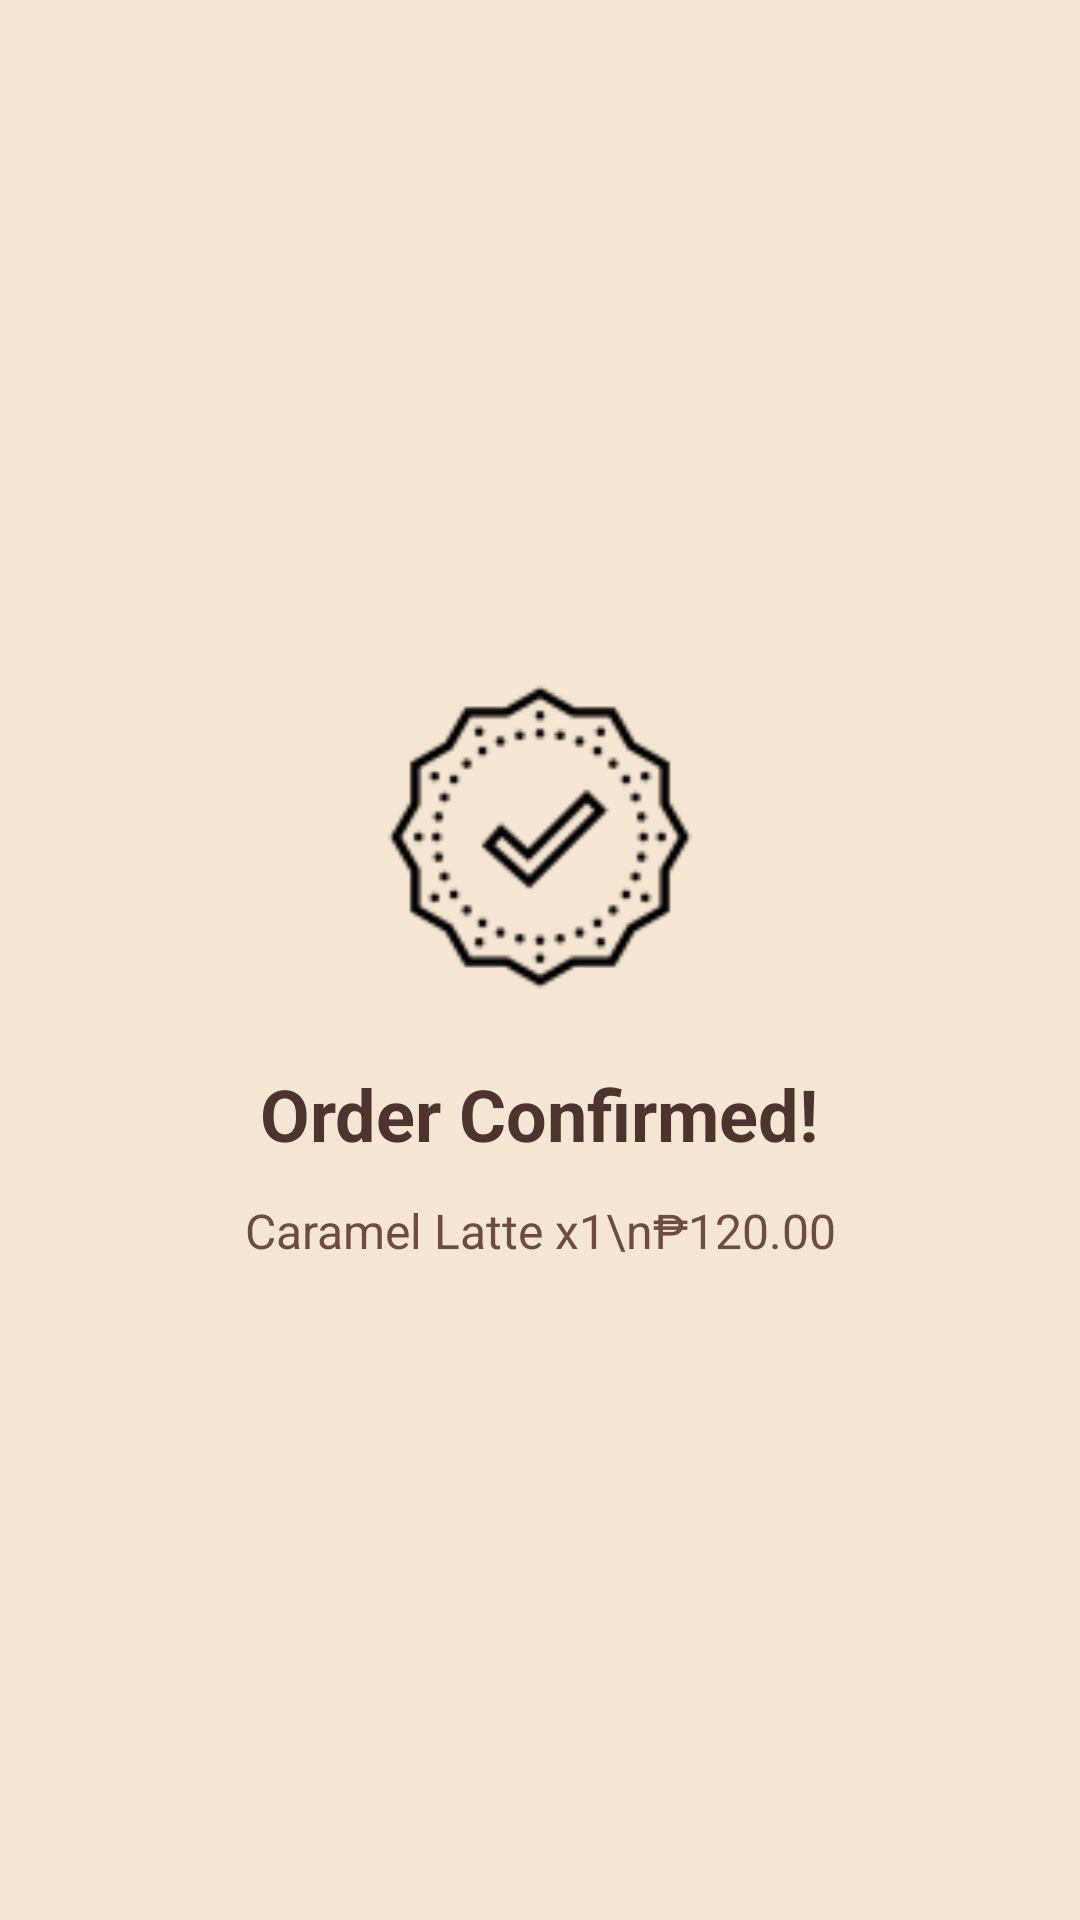

Screen size 1080w x 1920h. Icon name, then its center in pixels as [x,y]:
Confirmation Icon: [540,837]
